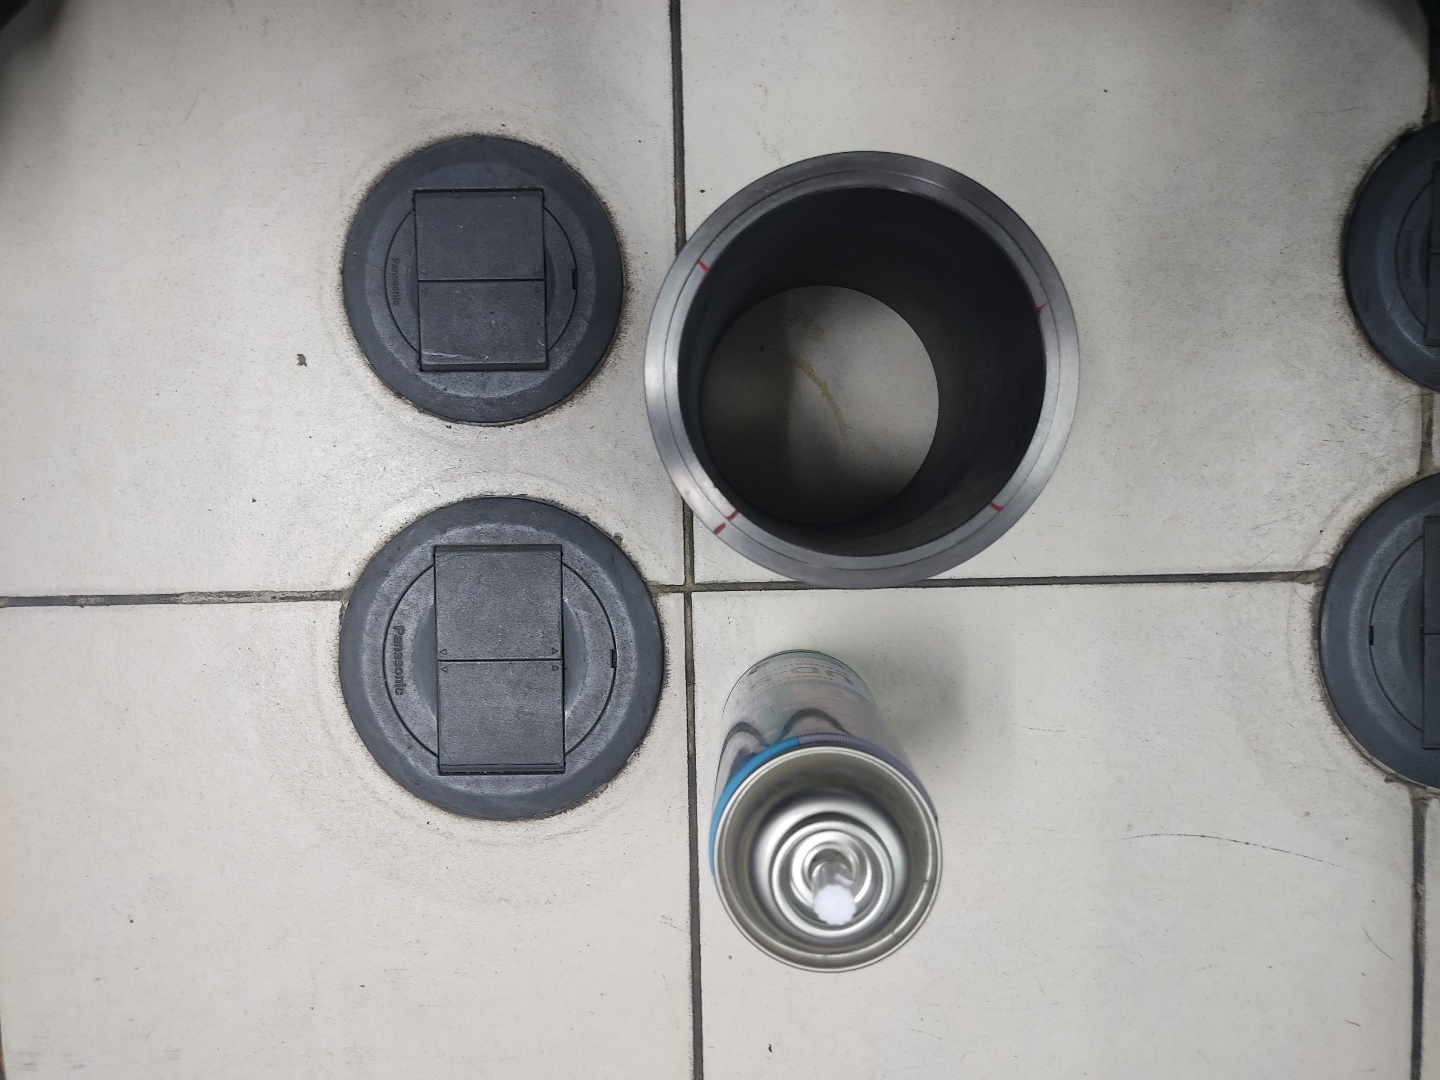cylinder: (639, 146, 1089, 596)
